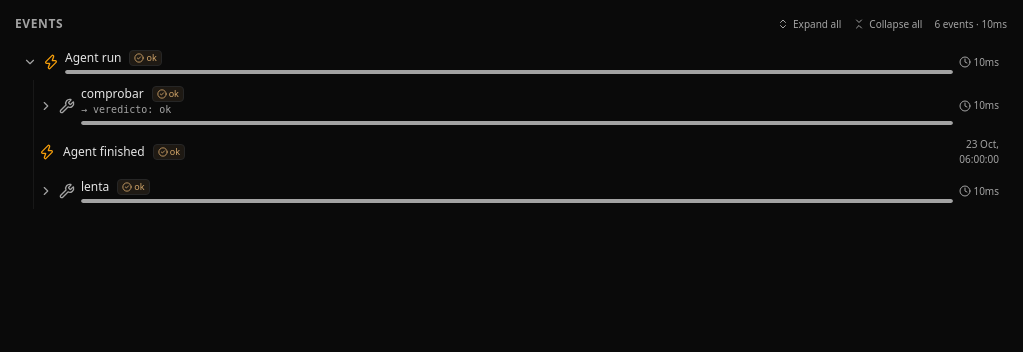
it: Timeline › leaves out the 'Started <tool>.' row once the tool has a result, but keeps it while it runs
The width and height of the screenshot is (1023, 352).
Click the button with aria-label "Expand all steps".
click(809, 24)  # box [777,16,841,32]
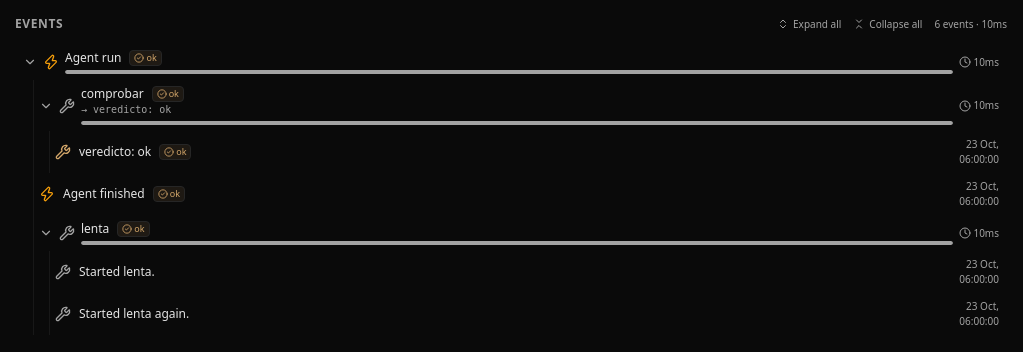
expect the text "veredicto: ok" is shown: met, box [79,144,151,160]
expect the text "Started lenta." is shown: met, box [79,264,155,280]
